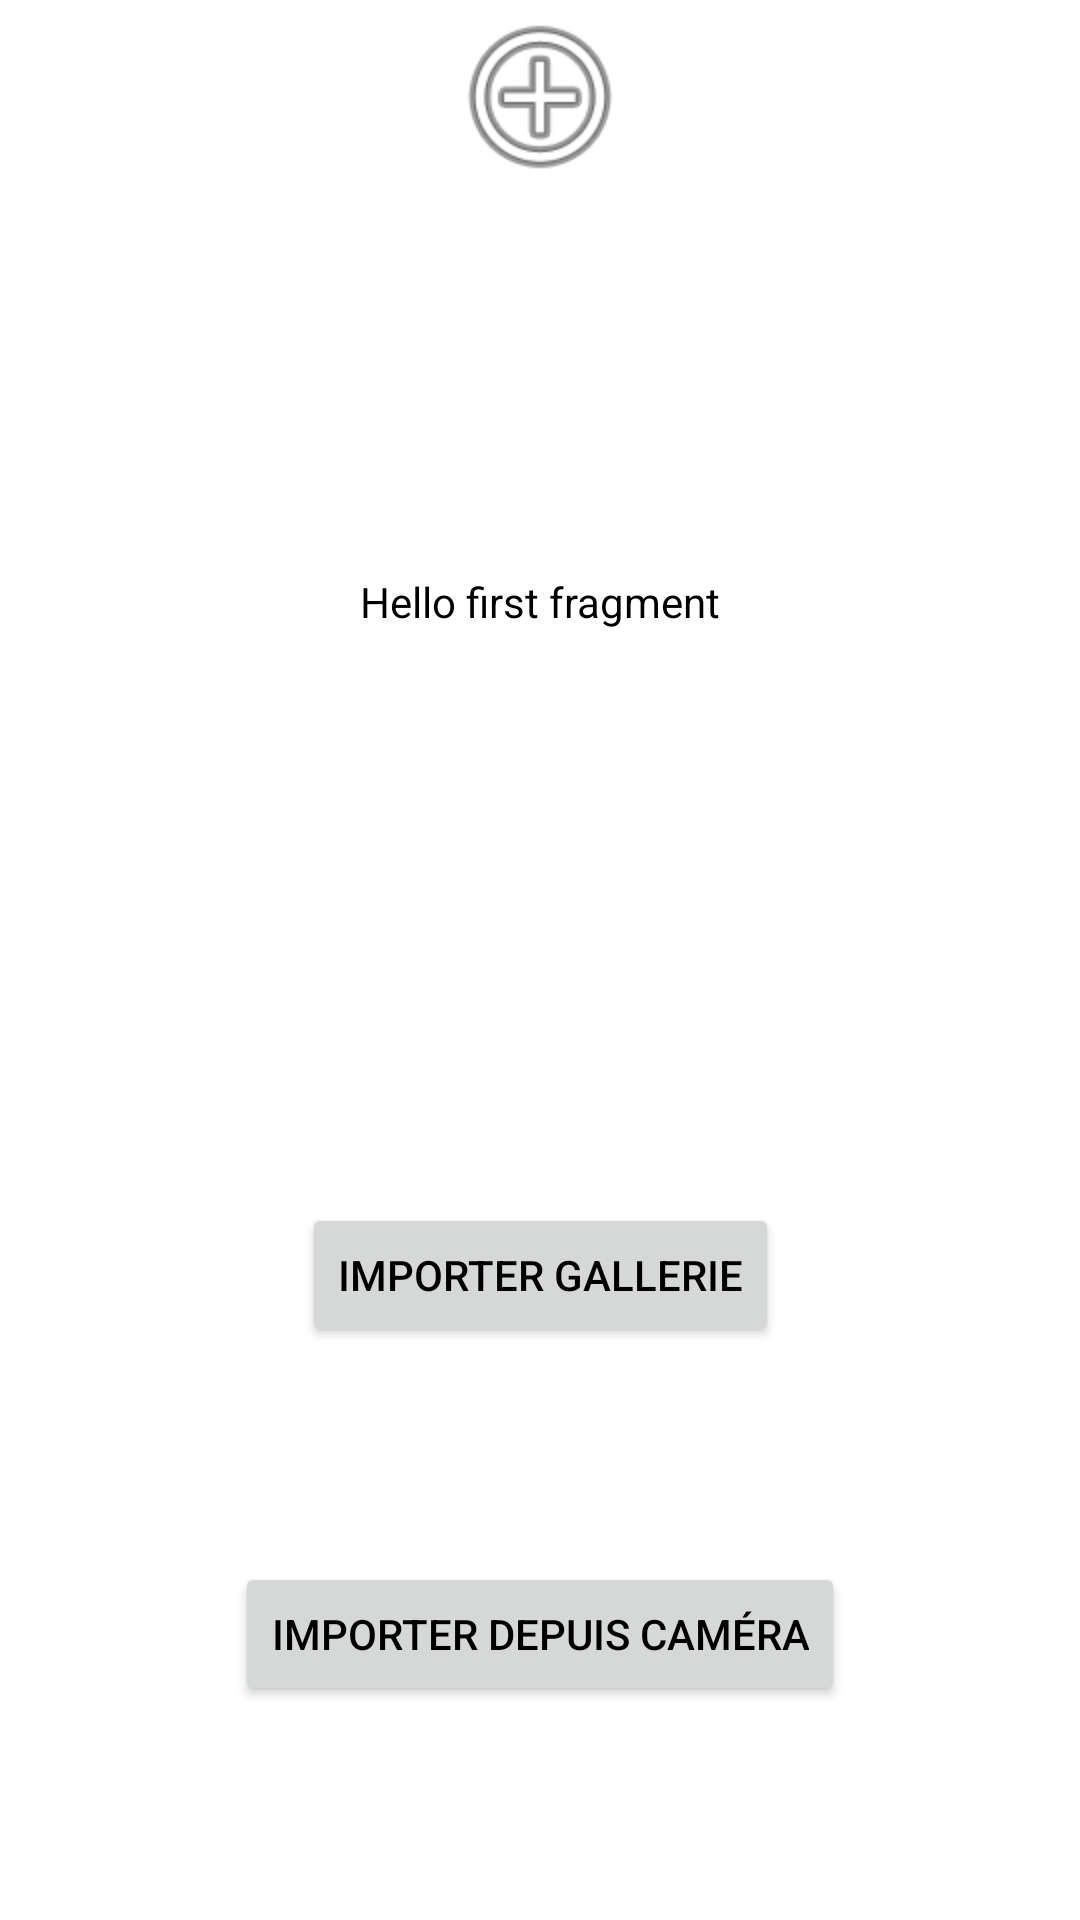

Screen size 1080w x 1920h. Icon name, then its center in pixels as (x=x, y=y):
add: (x=540, y=97)
